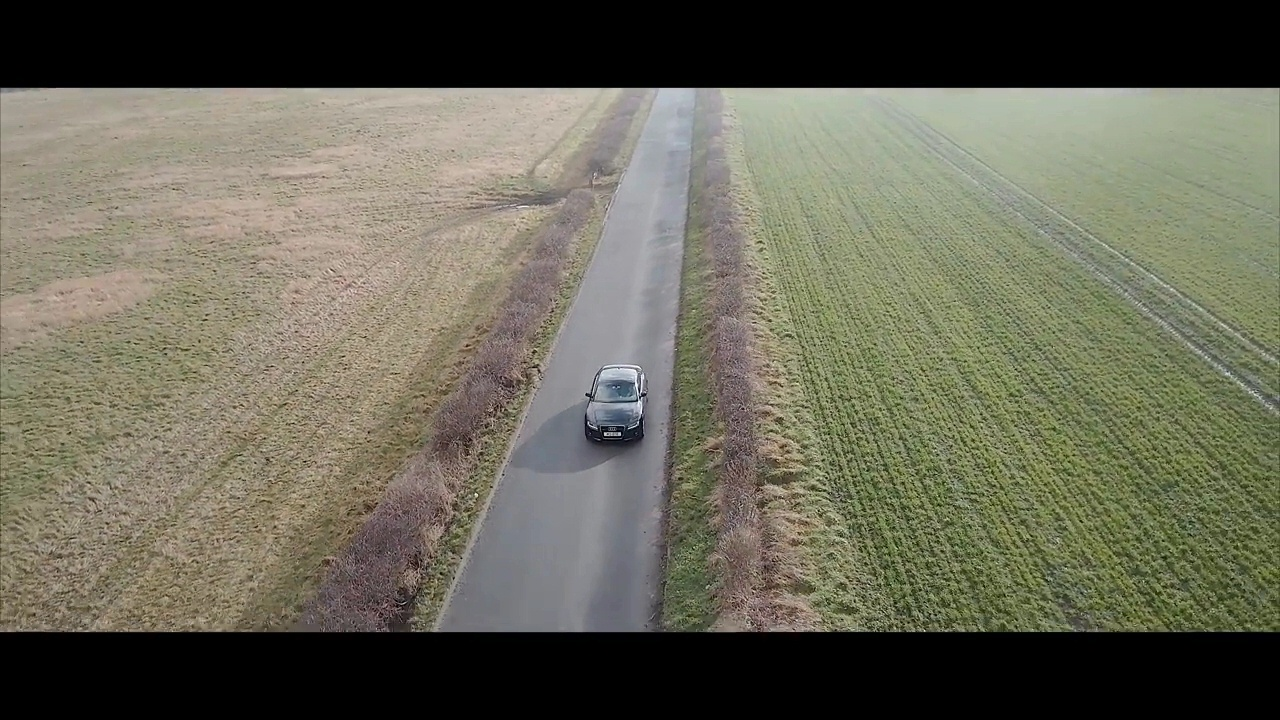araba: (578, 363, 652, 443)
